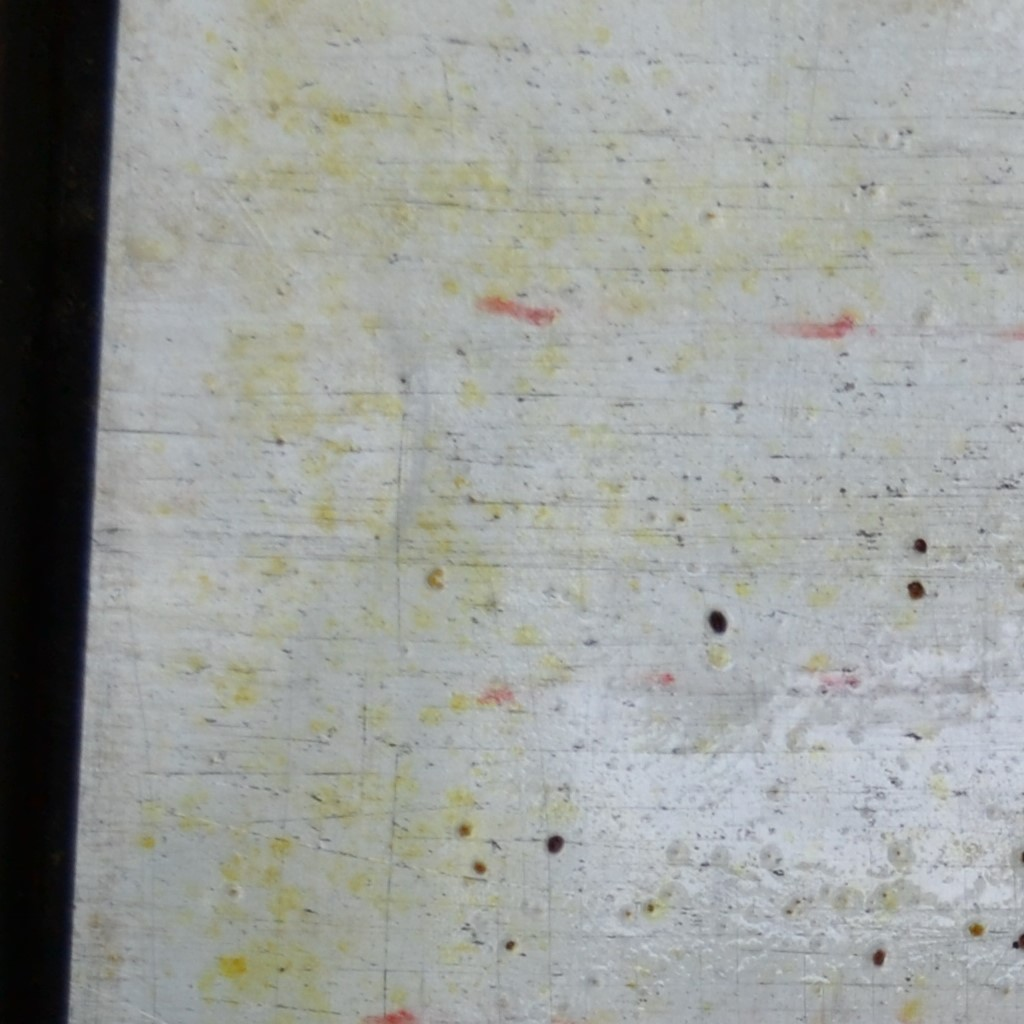varroa: (703, 609, 733, 637), (545, 827, 568, 858), (905, 576, 928, 602), (910, 531, 932, 557), (868, 942, 890, 968)
